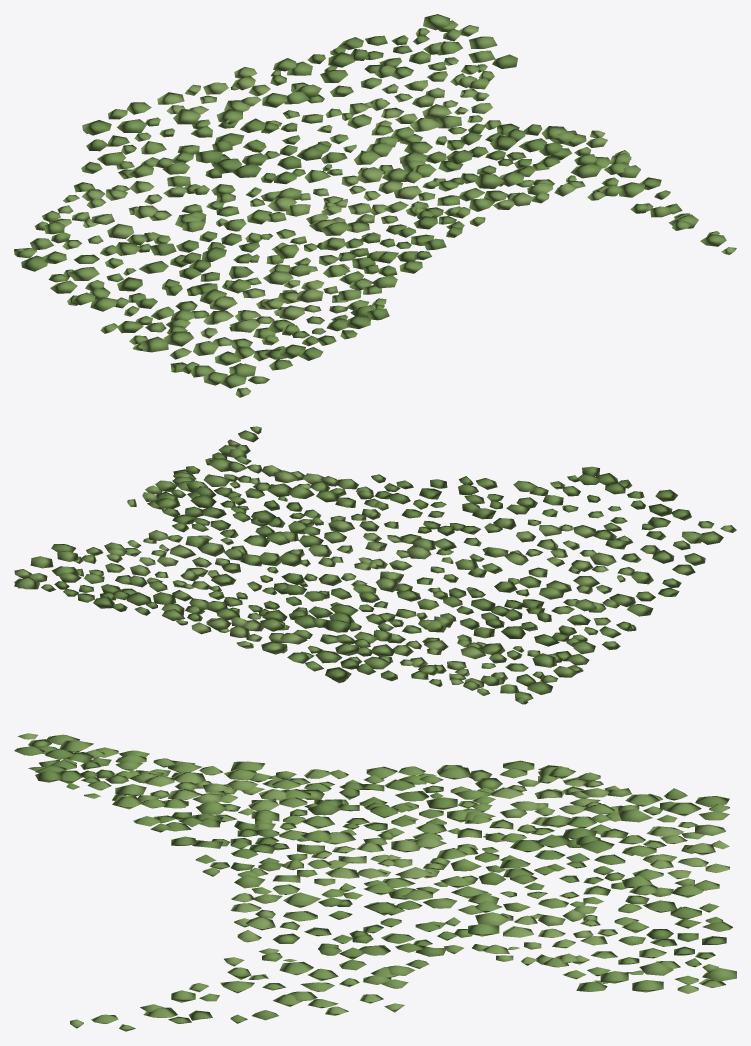
File: canopy-1--3-5.glb
3 views of the same model, one above another, from view 1: azimuth 30°, elevation 25°; view 2: azimuth 150°, elevation 25°; view 3: azimuth 270°, elevation 25° (orthographic). The views are drawn at different scales.
Size of the model in its own units: 515 by 75 by 518.
Materials: 1 (1 with a texture image).
